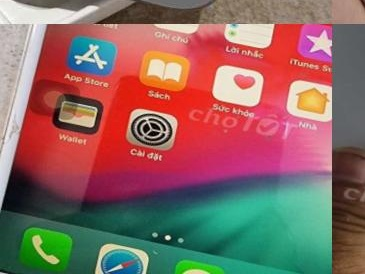physical_damage: (0, 95, 35, 166)
